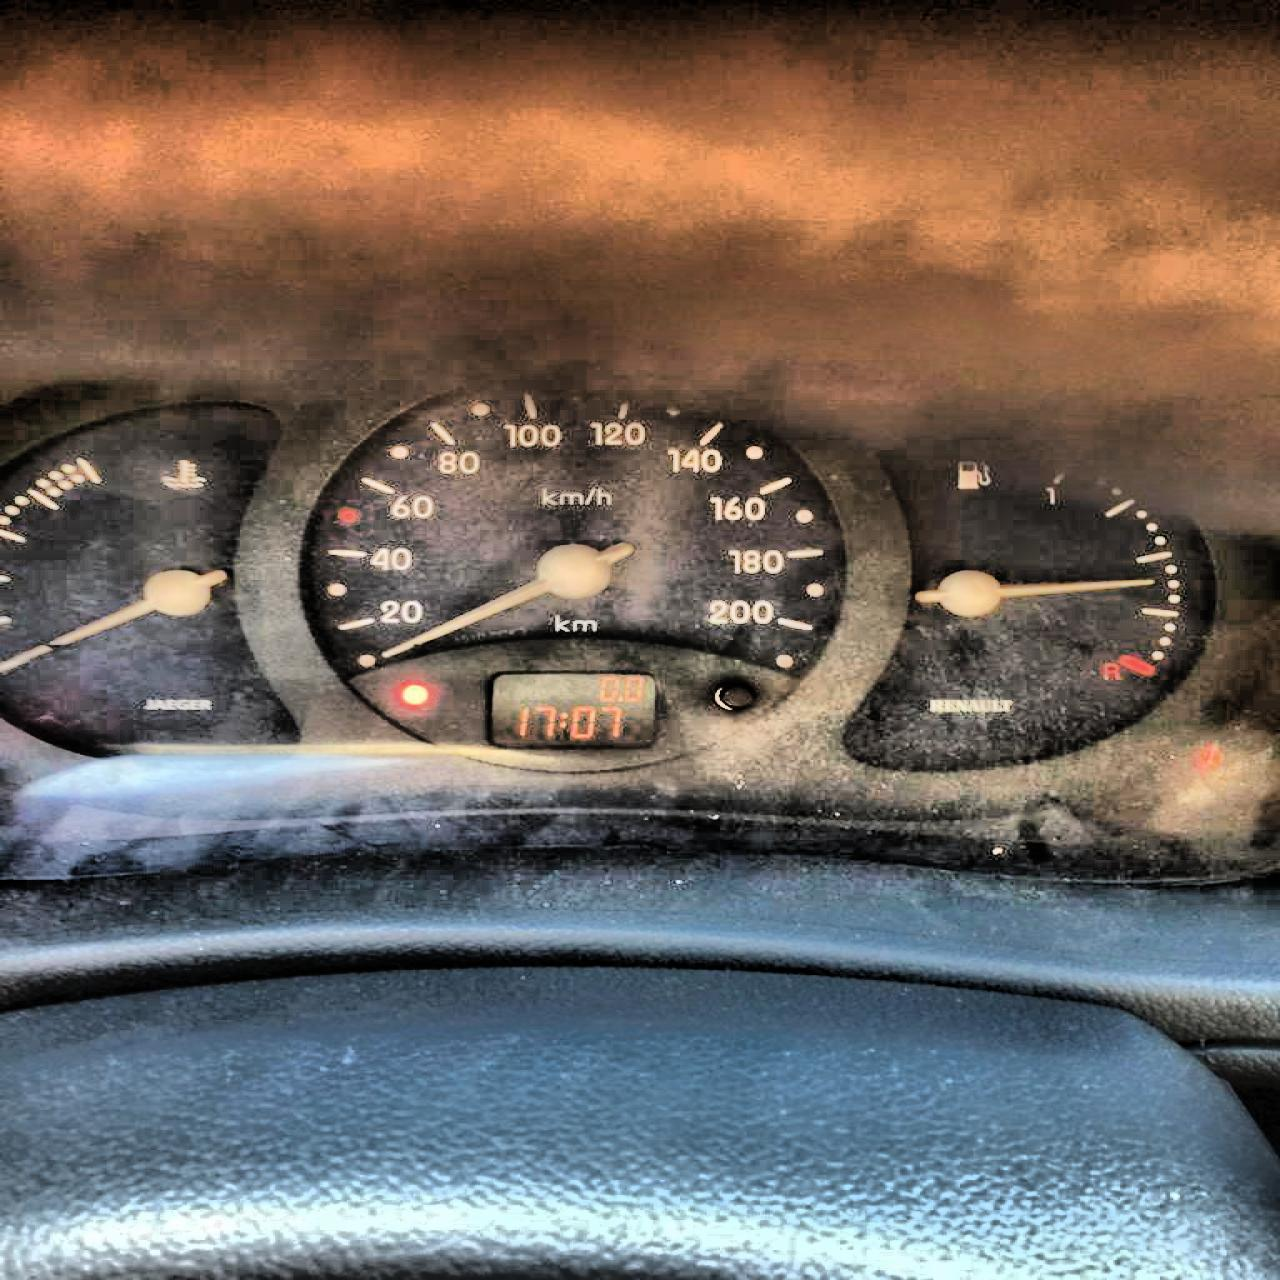-: (614, 694, 624, 702)
0: (568, 704, 594, 737), (595, 675, 617, 701), (624, 675, 641, 700)
1: (513, 704, 529, 736)
7: (533, 703, 557, 737), (597, 704, 621, 736)
X: (557, 709, 568, 729)
odometer: (482, 667, 660, 751)
